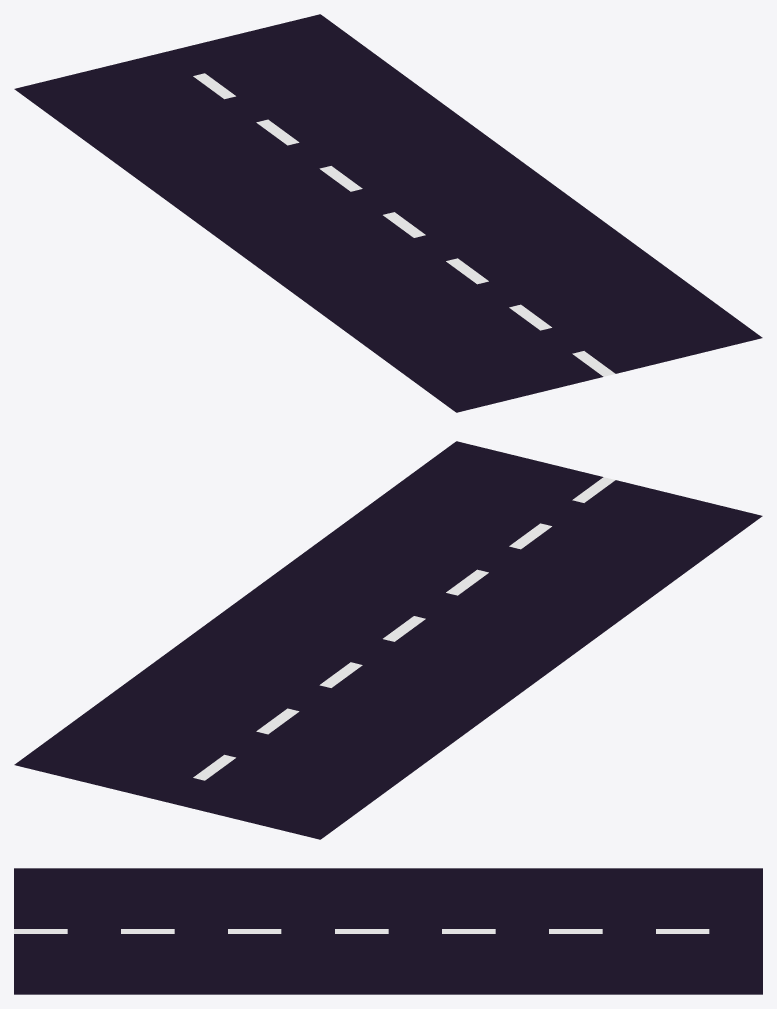
File: Road.fbx
3 renders of one model, top to bottom at view 1: azimuth 30°, elevation 25°; view 2: azimuth 150°, elevation 25°; view 3: azimuth 270°, elevation 25°, orthographic. The views are drawn at different scales.
Parts seen in each view (by area): view 1: Roud; view 2: Roud; view 3: Roud.
Boxes of the visible parts, <box> form: Roud: <box>14,14,762,412</box>; Roud: <box>14,441,762,839</box>; Roud: <box>14,868,762,994</box>.
Size of the model in its own units: 400 by 1.42e-12 by 1000.
